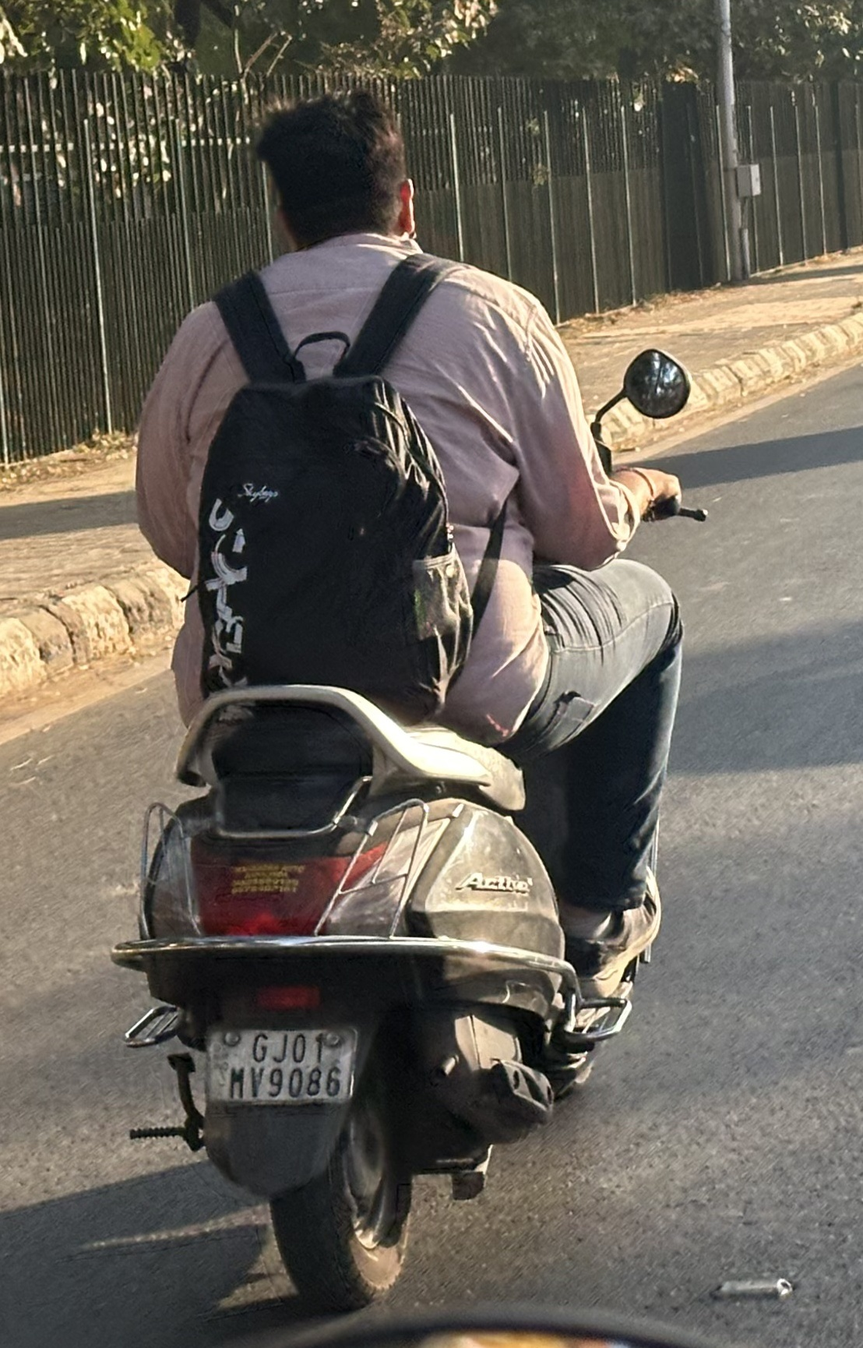BikeWithRider: (89, 67, 724, 1336)
NoHelmet: (232, 73, 442, 274)
